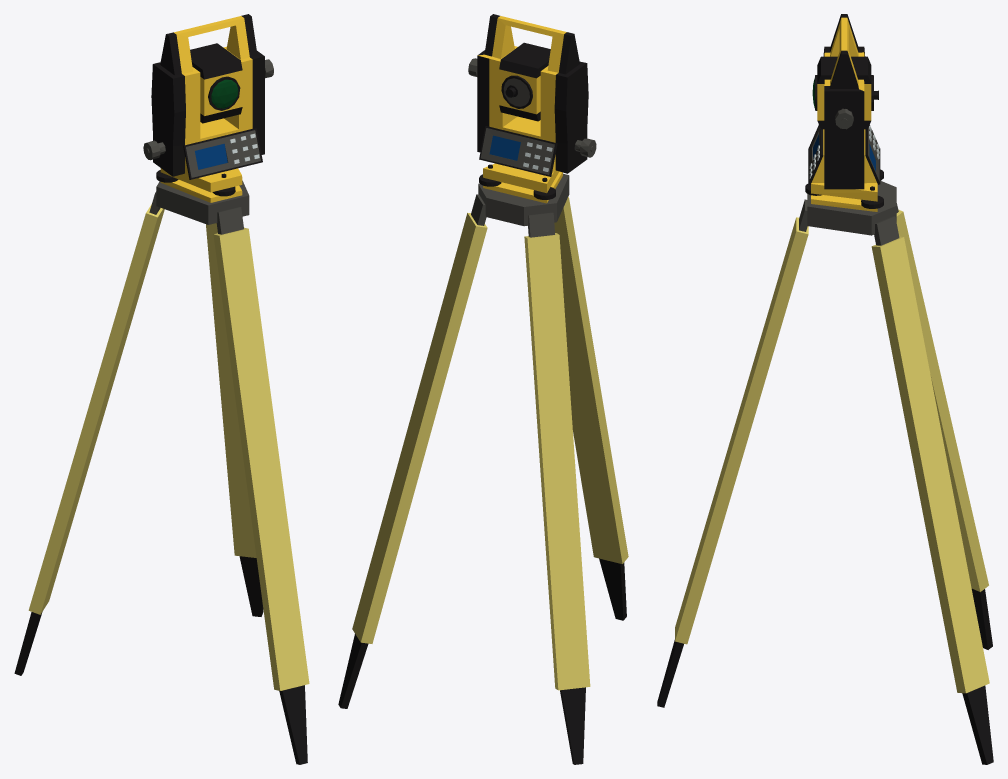
3 renders of one model, left to right at view 1: azimuth 30°, elevation 25°; view 2: azimuth 150°, elevation 25°; view 3: azimuth 270°, elevation 25°, orthographic.
Parts seen in each view (by area): view 1: EstacaoTotal_Tripe_Perna2; view 2: EstacaoTotal_Tripe_Perna2; view 3: EstacaoTotal_Tripe_Perna2.
Part boxes in pixels (left/top/right/bottom): EstacaoTotal_Tripe_Perna2: left=14, top=14, right=309, bottom=764; EstacaoTotal_Tripe_Perna2: left=338, top=14, right=628, bottom=764; EstacaoTotal_Tripe_Perna2: left=657, top=14, right=993, bottom=764.
Bounding box in the file's own units: 66.02 × 170 × 77.37.
1 material, 1 textured.
